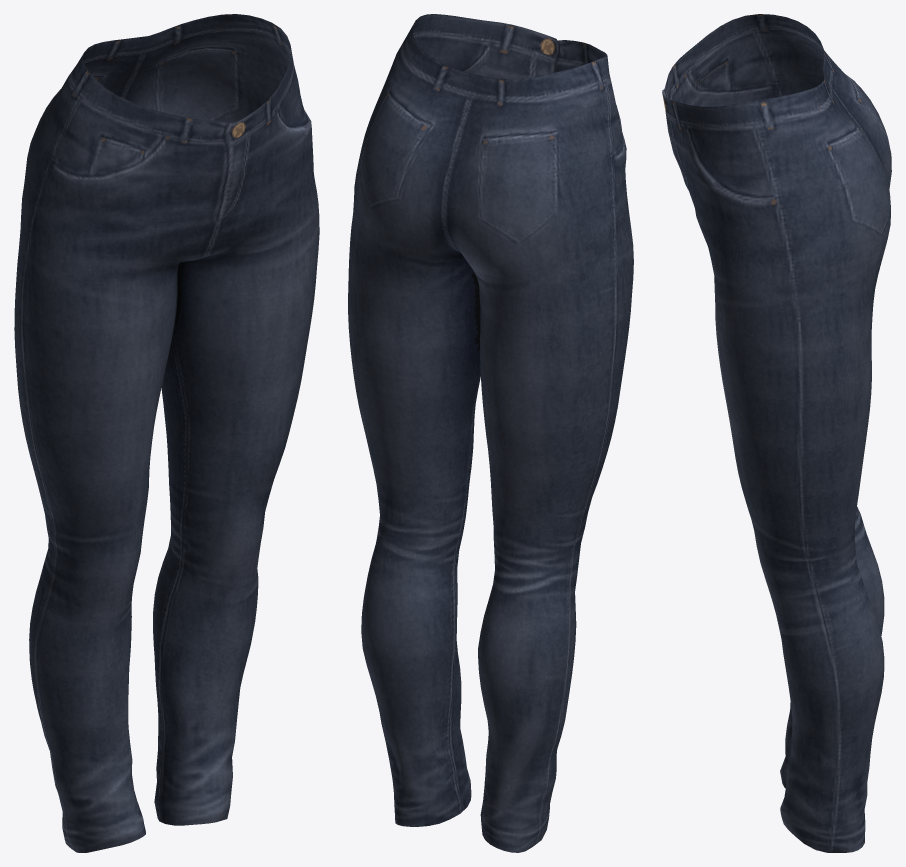
Rendered from jeans.gltf.
3 renders of one model, left to right at view 1: azimuth 30°, elevation 25°; view 2: azimuth 150°, elevation 25°; view 3: azimuth 270°, elevation 25°, orthographic. The views are drawn at different scales.
Parts seen in each view (by area): view 1: defaultobject; view 2: defaultobject; view 3: defaultobject.
Part boxes in pixels (box(x1,y1,x2,y2)): defaultobject: box(14, 14, 319, 852); defaultobject: box(348, 14, 633, 852); defaultobject: box(662, 14, 891, 852).
Bounding box in the file's own units: 0.7199 × 2.01 × 0.5472.
Materials: 1 (1 with a texture image).
